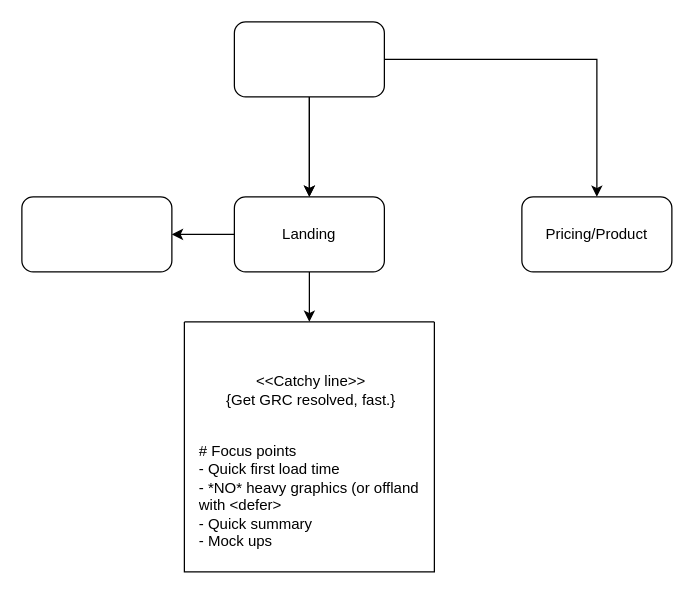
The diagram is 694 pixels wide and 610 high, and some of its shapes have lost their labels. Here are the shapes that lost their labels. From the top down, the centre of each, then its label:
At point (308, 59): "GRC_FAST".
At point (96, 234): "Nice to haves: - Cookie track + opt out - Google analytics".
